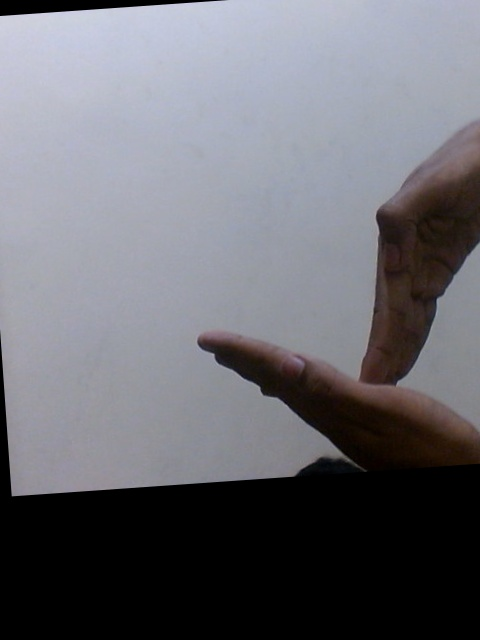hand: (194, 327, 480, 469), (357, 115, 480, 389)
